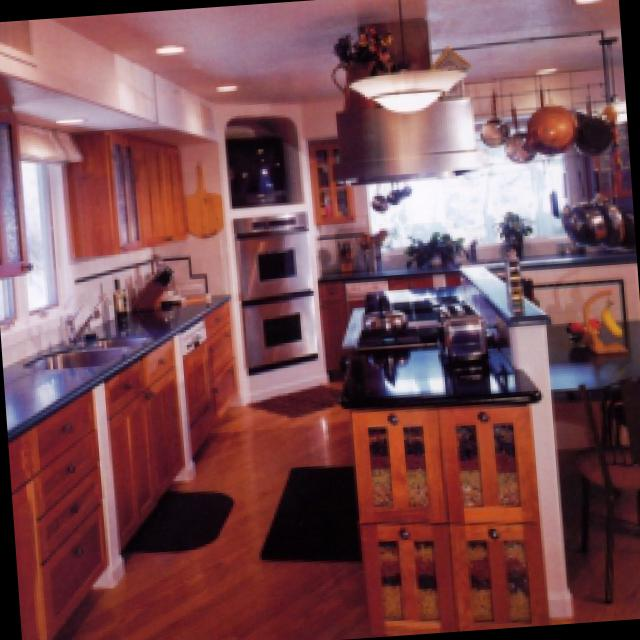2001: (368, 140, 567, 241)
2011: (1, 158, 63, 330)
air vent: (0, 19, 37, 67)
bottle crop: (116, 271, 131, 309)
cabinet door: (0, 72, 28, 265), (210, 301, 242, 432), (312, 133, 358, 222)
cabinets: (10, 338, 183, 640), (356, 406, 551, 629), (66, 129, 191, 254)
ceiling beam: (61, 0, 623, 104)
ceiling lamps: (353, 66, 470, 112)
chair -occluded-: (580, 377, 640, 602)
counter bottom: (5, 285, 230, 434), (344, 342, 546, 406), (322, 242, 634, 280)
curtain crop: (21, 123, 81, 165)
dishwasher: (180, 315, 219, 467)
fruit basket: (571, 287, 630, 356)
hanging pans: (482, 80, 619, 161), (560, 193, 634, 243), (372, 184, 412, 210)
hood: (349, 91, 479, 179)
kettle: (365, 291, 413, 331)
oven cloth: (237, 208, 320, 372)
plant -x: (406, 226, 469, 266), (497, 209, 531, 254)
pot hanger: (244, 151, 280, 198), (365, 238, 387, 263)
rug -partially obscured-: (256, 463, 362, 558), (123, 485, 237, 547), (245, 380, 346, 414)
sink basin: (30, 332, 145, 367)
sink occluded: (62, 298, 104, 345)
stove burner: (344, 290, 464, 346)
table -X: (550, 316, 640, 395)
toaster oven: (440, 301, 491, 364)
